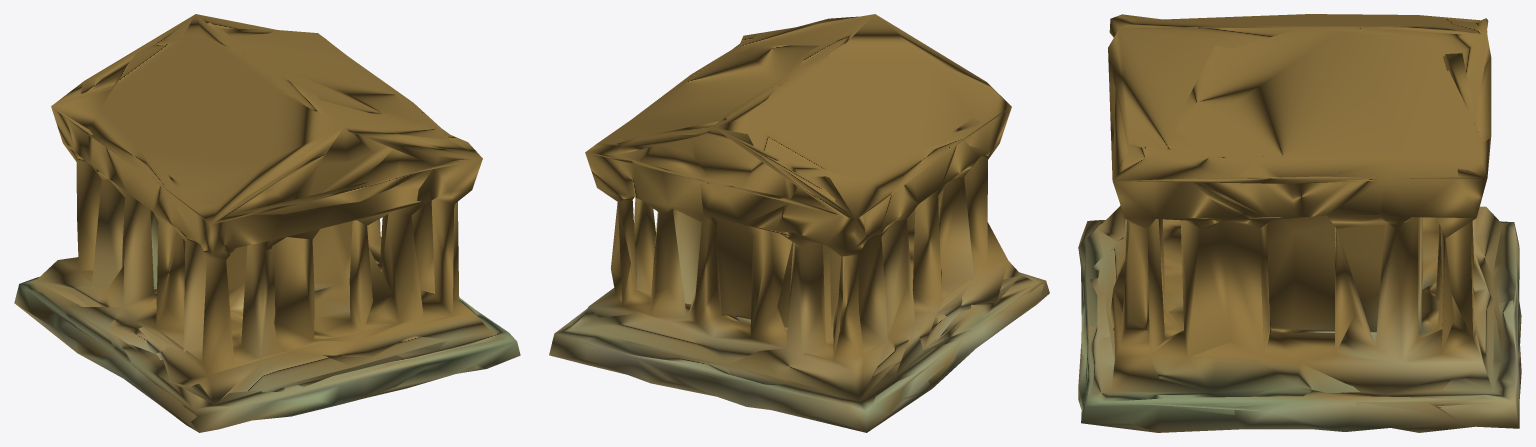
File: gen3d-roman-temple-lod0.glb
3 views of the same model, side by side, from view 1: azimuth 30°, elevation 25°; view 2: azimuth 150°, elevation 25°; view 3: azimuth 270°, elevation 25° (orthographic). The views are drawn at different scales.
Visible parts, largest first — view 1: part_0; view 2: part_0; view 3: part_0.
Part boxes in pixels (x1,y1,x2,y2): part_0: (14, 14, 520, 432); part_0: (549, 14, 1049, 432); part_0: (1078, 14, 1521, 432).
Bounding box in the file's own units: 1.29 × 0.9987 × 1.29.
